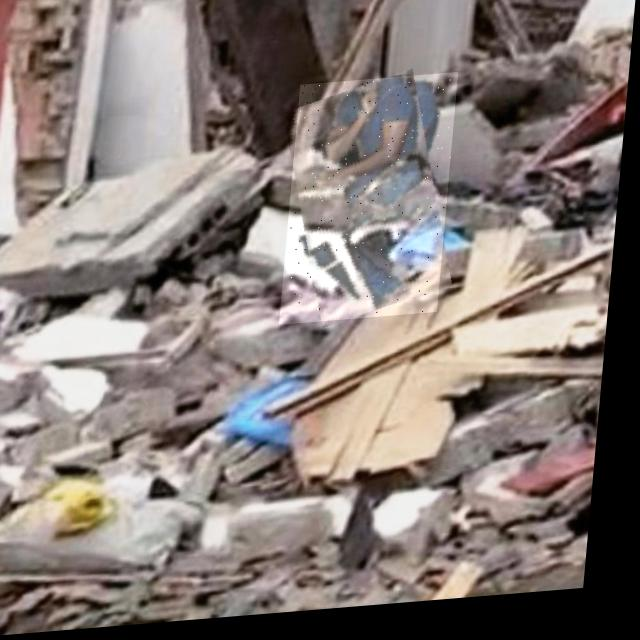Person in Rubble: (285, 80, 460, 330)
